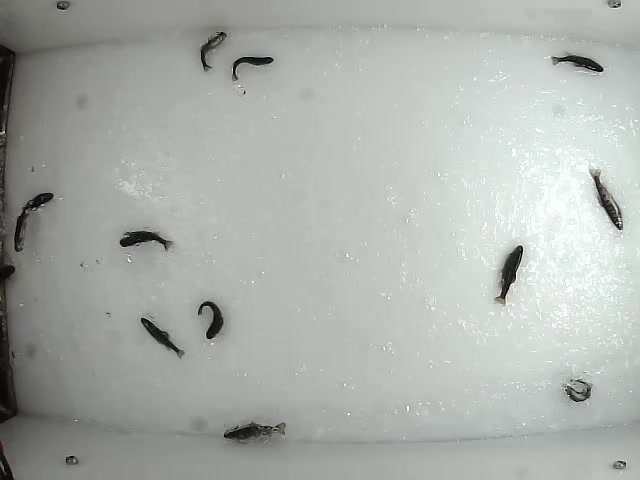fish: (587, 166, 627, 233), (12, 192, 55, 254), (139, 313, 187, 361), (491, 243, 525, 308), (220, 417, 291, 442), (194, 296, 226, 341), (119, 229, 175, 254), (228, 51, 273, 82), (197, 29, 228, 74), (549, 52, 605, 74), (562, 376, 594, 404)
